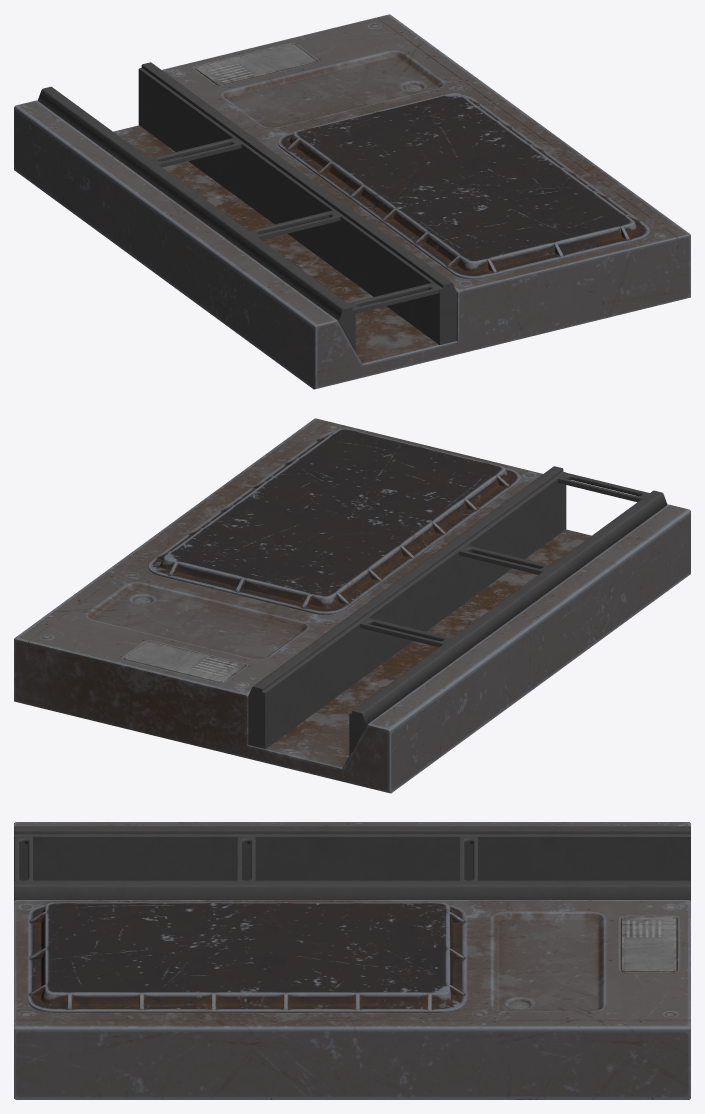
The model's file is SM_RoomStyle_Floor08.fbx.
3 views of the same model, one above another, from view 1: azimuth 30°, elevation 25°; view 2: azimuth 150°, elevation 25°; view 3: azimuth 270°, elevation 25° (orthographic). The views are drawn at different scales.
Visible parts, largest first — view 1: SM_RoomStyle_Floor08_LOD0; view 2: SM_RoomStyle_Floor08_LOD0; view 3: SM_RoomStyle_Floor08_LOD0.
Part boxes in pixels (x1,y1,x2,y2): SM_RoomStyle_Floor08_LOD0: (14, 14, 690, 389); SM_RoomStyle_Floor08_LOD0: (14, 418, 690, 793); SM_RoomStyle_Floor08_LOD0: (14, 822, 690, 1099).
Bounding box in the file's own units: 260 × 360 × 49.31.
2 materials, 1 textured.
